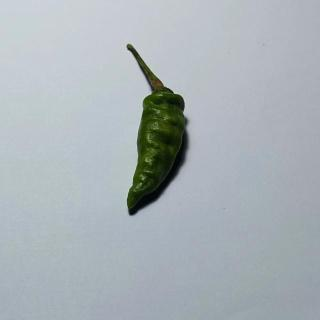Cabai Hijau: (122, 43, 191, 215)
